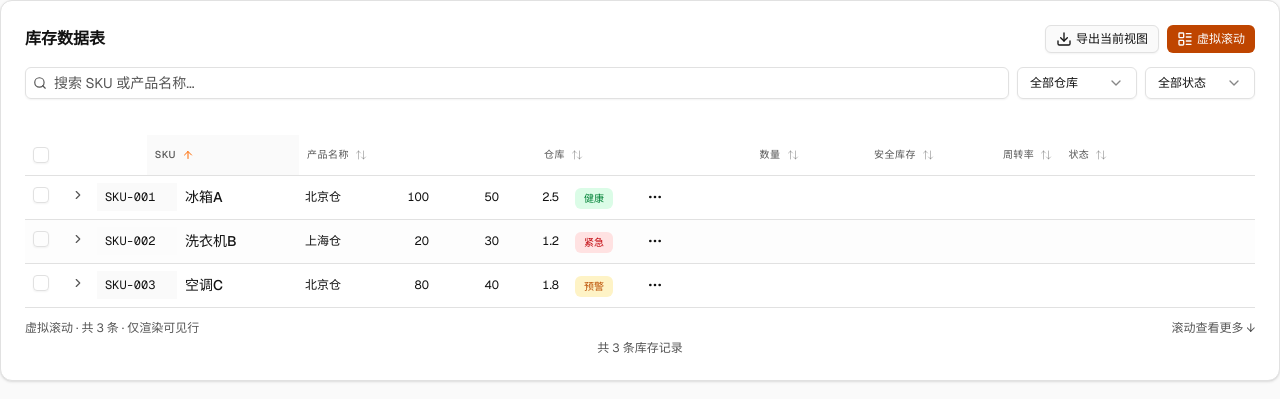
Test: InventoryDataTable › toggles to pagination mode and shows pagination controls
Expected: the text "首页" is not shown
# Click the toggle button (titled "切换到分页模式")
Step 1. Click the button titled "切换到分页模式" → (1211, 39), box [1167,25,1255,53]
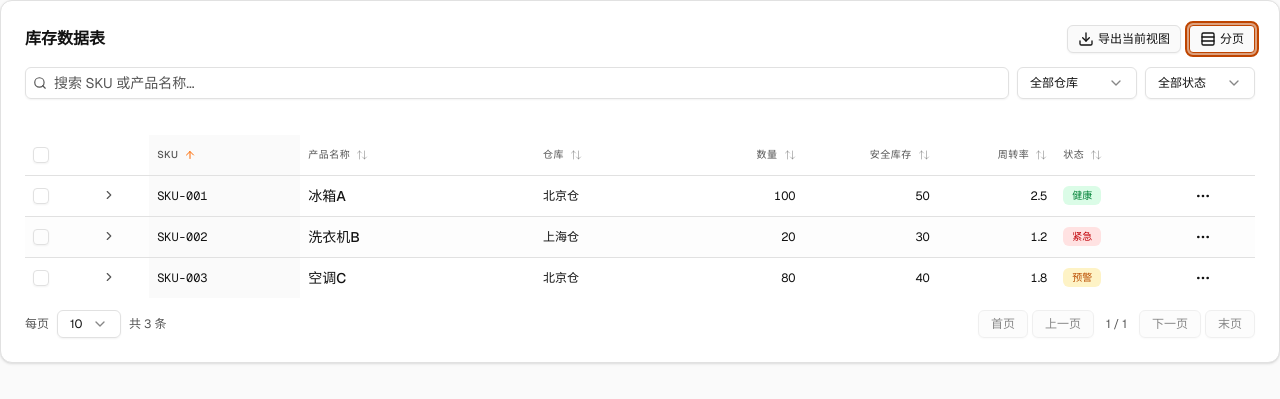
Now the button "首页" is shown, box [978,310,1028,338]
Now the button "上一页" is shown, box [1032,310,1094,338]
Now the button "下一页" is shown, box [1139,310,1201,338]
